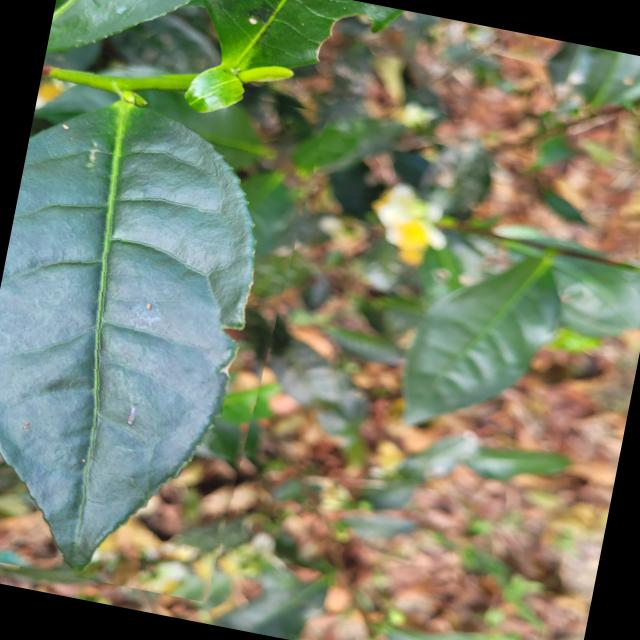Category D(7+ days, Not for Tea): (0, 50, 329, 607)
